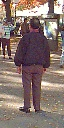person: (7, 15, 54, 122)
